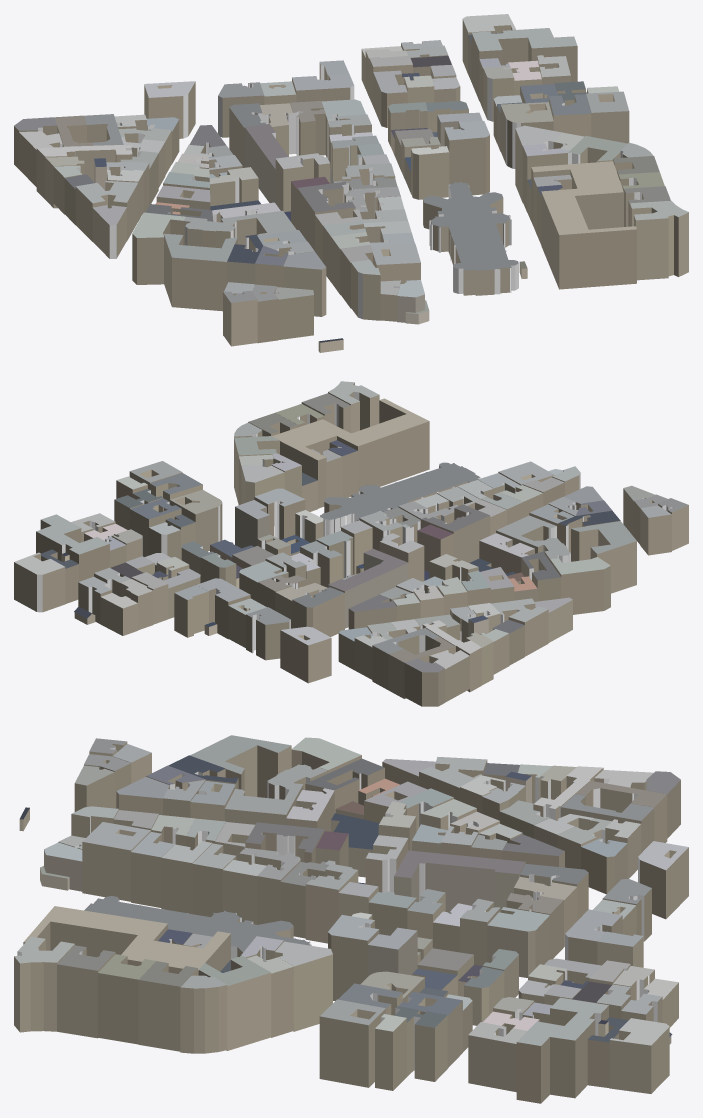
The picture shows the model from 3 angles, top to bottom: view 1: azimuth 30°, elevation 25°; view 2: azimuth 150°, elevation 25°; view 3: azimuth 270°, elevation 25°; orthographic projection. The views are drawn at different scales.
Visible parts, largest first — view 1: tuile; view 2: tuile; view 3: tuile.
Part boxes in pixels (x1,y1,x2,y2): tuile: [14, 14, 688, 352]; tuile: [14, 381, 688, 706]; tuile: [14, 735, 688, 1103].
Size of the model in its own units: 272 by 32.64 by 256.
